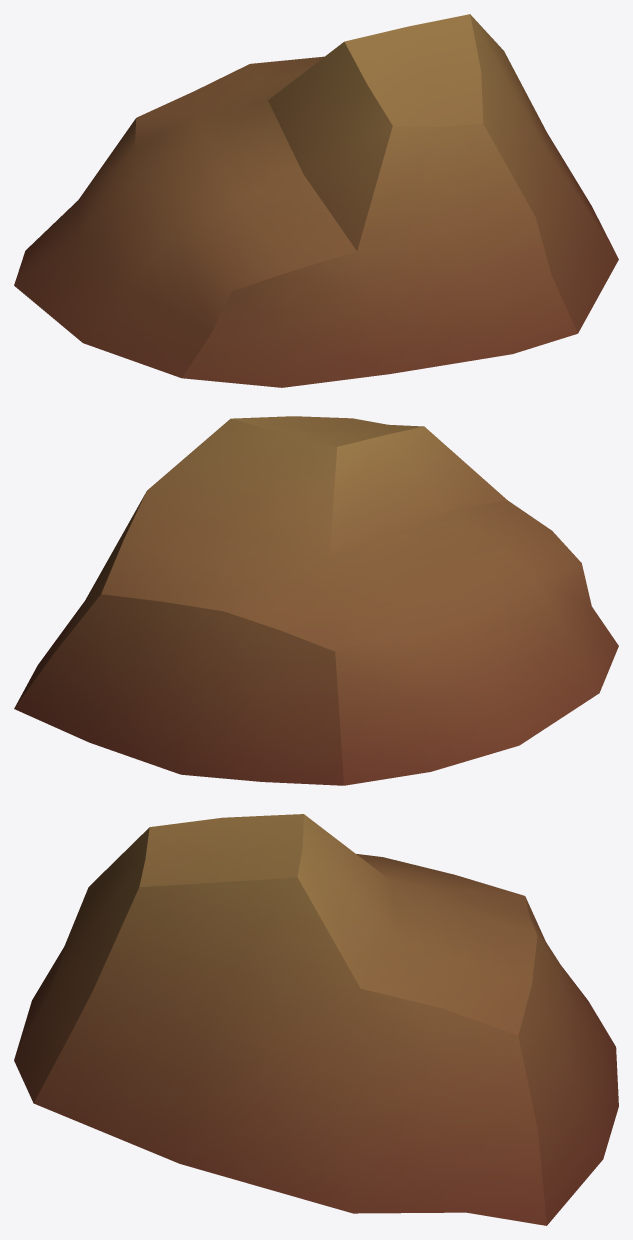
The model's file is Mountain_big.004.fbx.
3 renders of one model, top to bottom at view 1: azimuth 30°, elevation 25°; view 2: azimuth 150°, elevation 25°; view 3: azimuth 270°, elevation 25°, orthographic. The views are drawn at different scales.
Parts seen in each view (by area): view 1: Mountain_big.004; view 2: Mountain_big.004; view 3: Mountain_big.004.
Boxes of the visible parts, left/top/right/bottom form: Mountain_big.004: left=14, top=14, right=618, bottom=387; Mountain_big.004: left=14, top=416, right=618, bottom=785; Mountain_big.004: left=14, top=814, right=618, bottom=1225.
Bounding box in the file's own units: 157 × 74.05 × 143.
